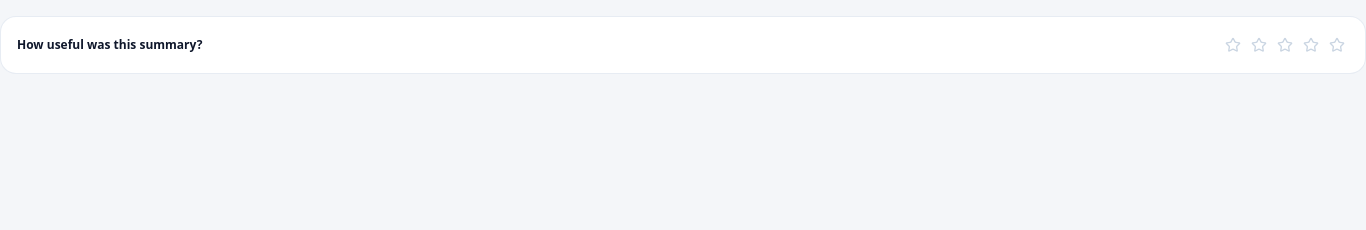
it: SummaryFeedback › asks for a rating first, then reveals the comment and consent, and submits what was chosen
Expected: the button "submit rating" is not shown
Click the radio button named "4 of 5" at (1311, 45), box [1299,33,1323,57]
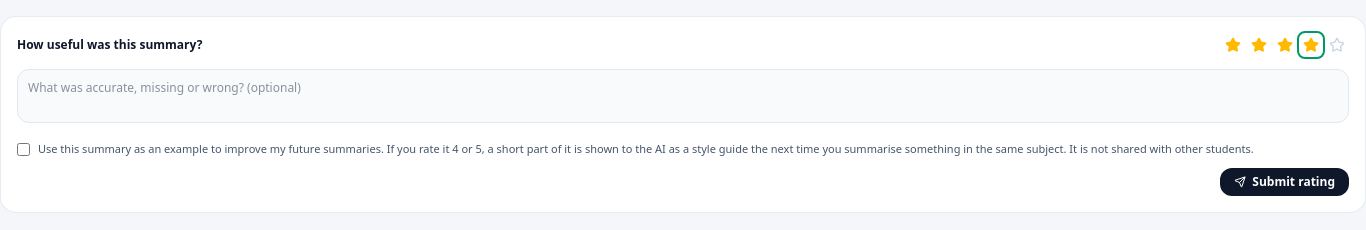
Type "Missed the second theorem." into the text box named "comment on this summary" at (683, 96), box [17,69,1349,123]
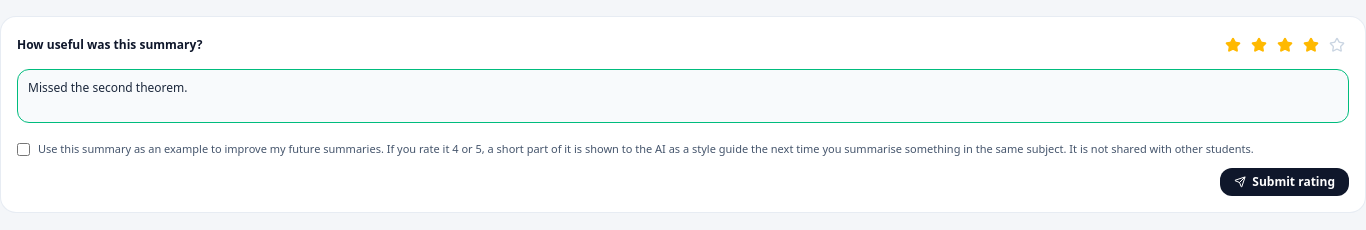
Click the checkbox at (24, 150), box [17,143,30,156]
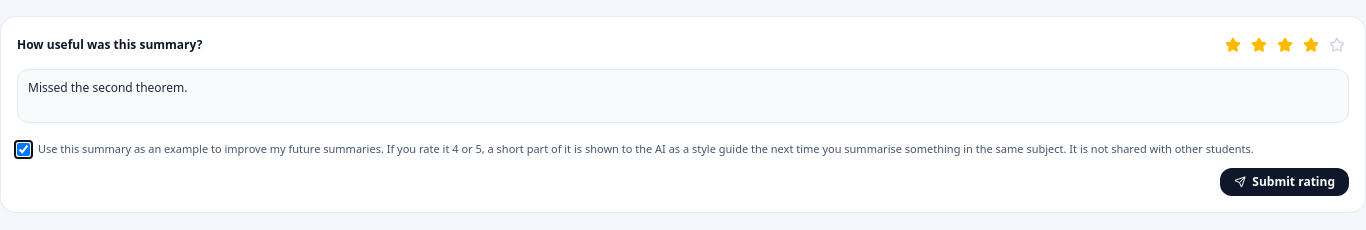
Click the button "Submit rating" at (1285, 182), box [1220,168,1349,196]
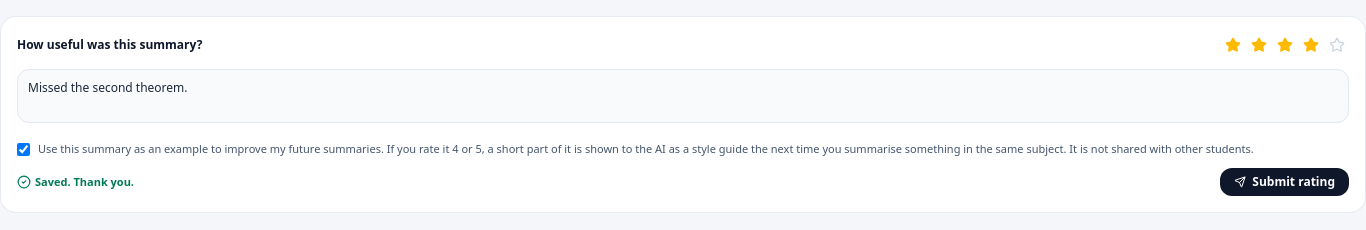
Expected: the message shows "Saved", [35,174,134,189]
